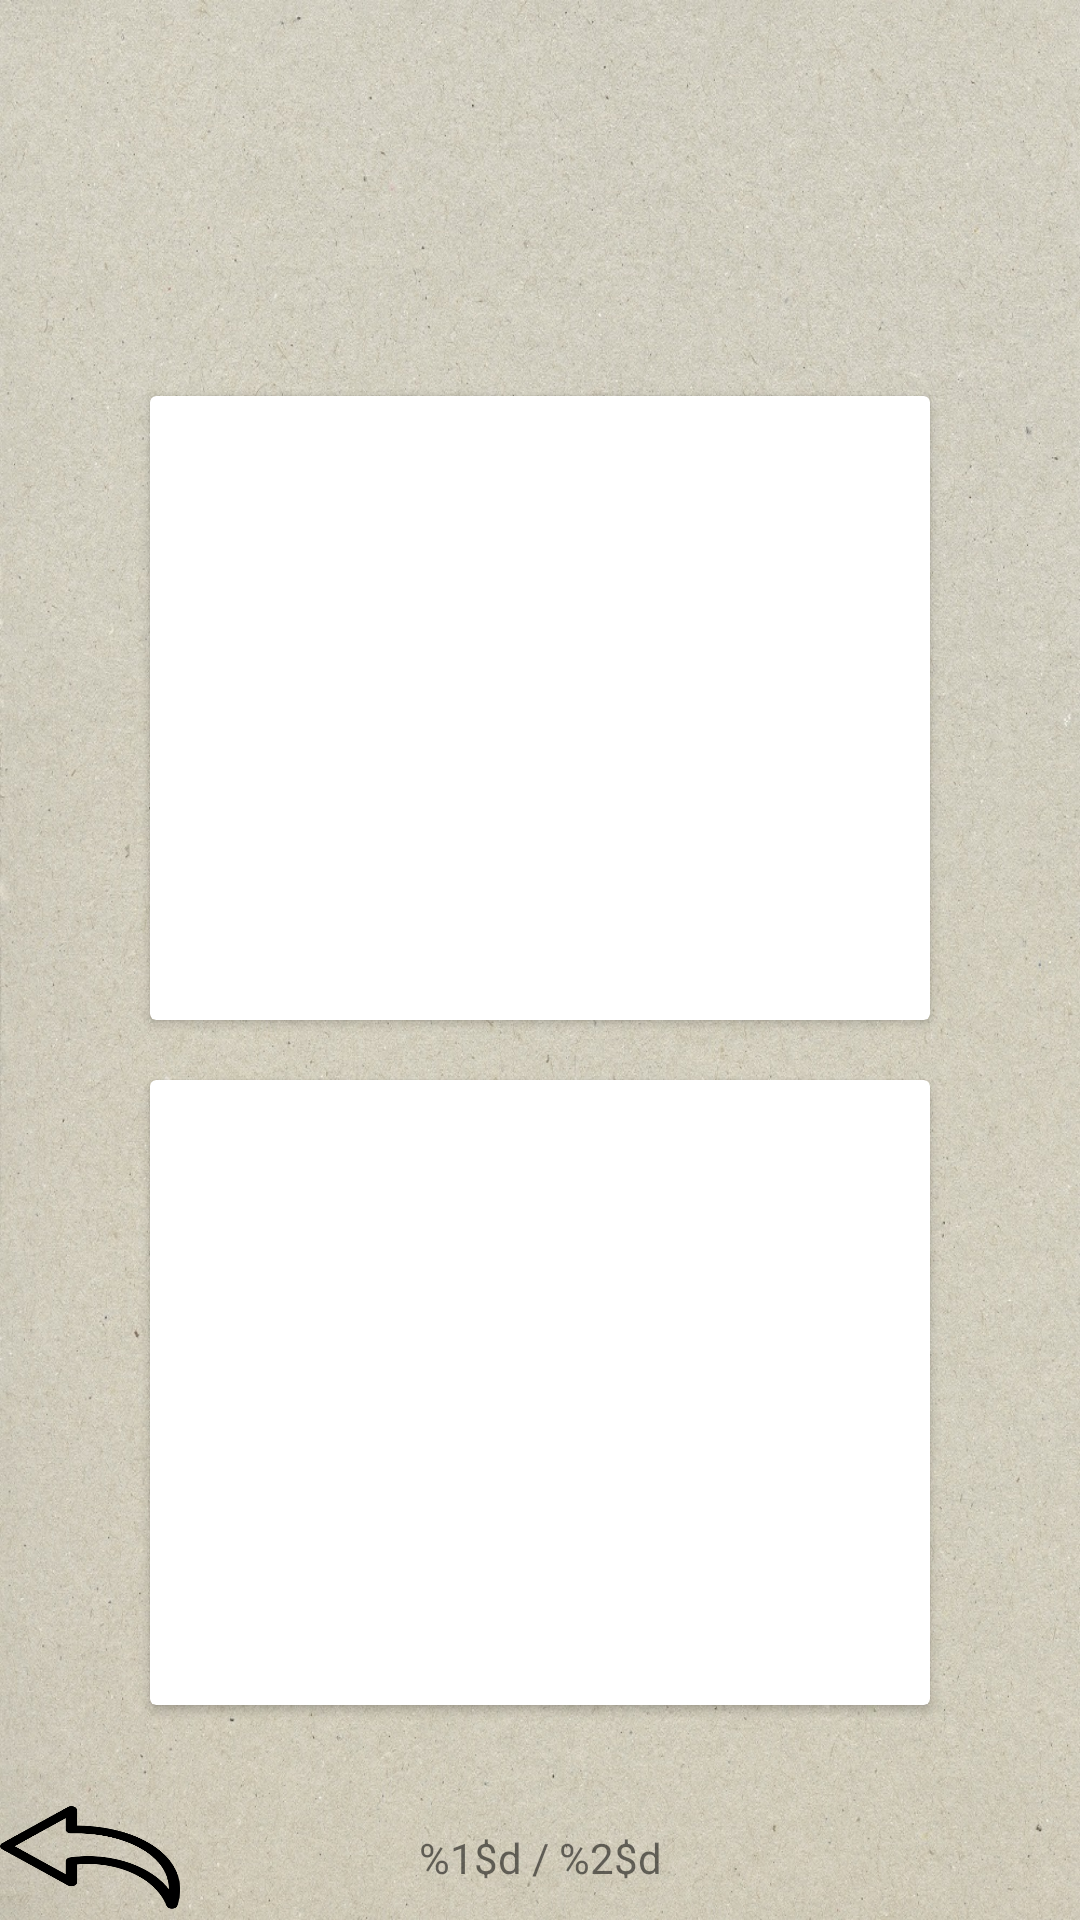

Screen size 1080 × 1920. Icon name, then its center in pixels as point (x, y):
arrowleft: point (90, 1855)
